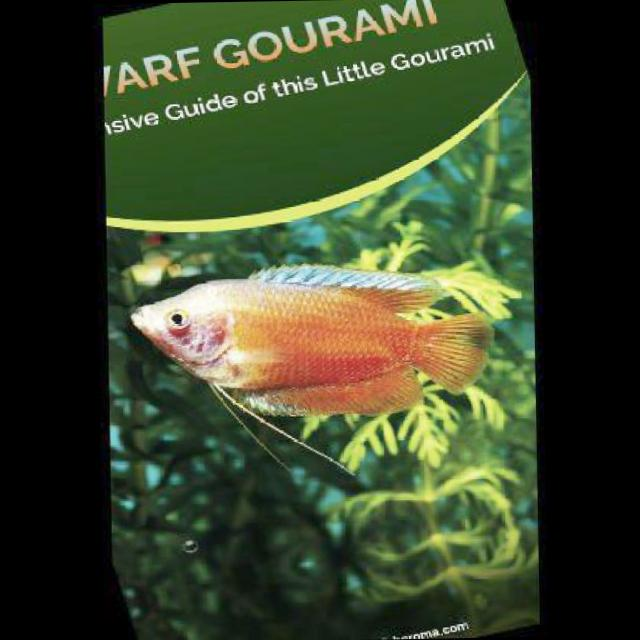Gourami: (127, 252, 492, 428)
